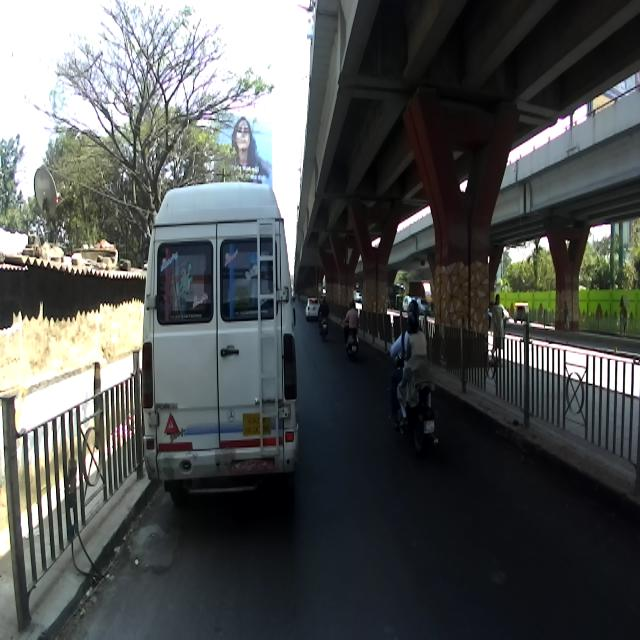bus ahead at: (136, 173, 308, 497), (393, 369, 446, 460)
